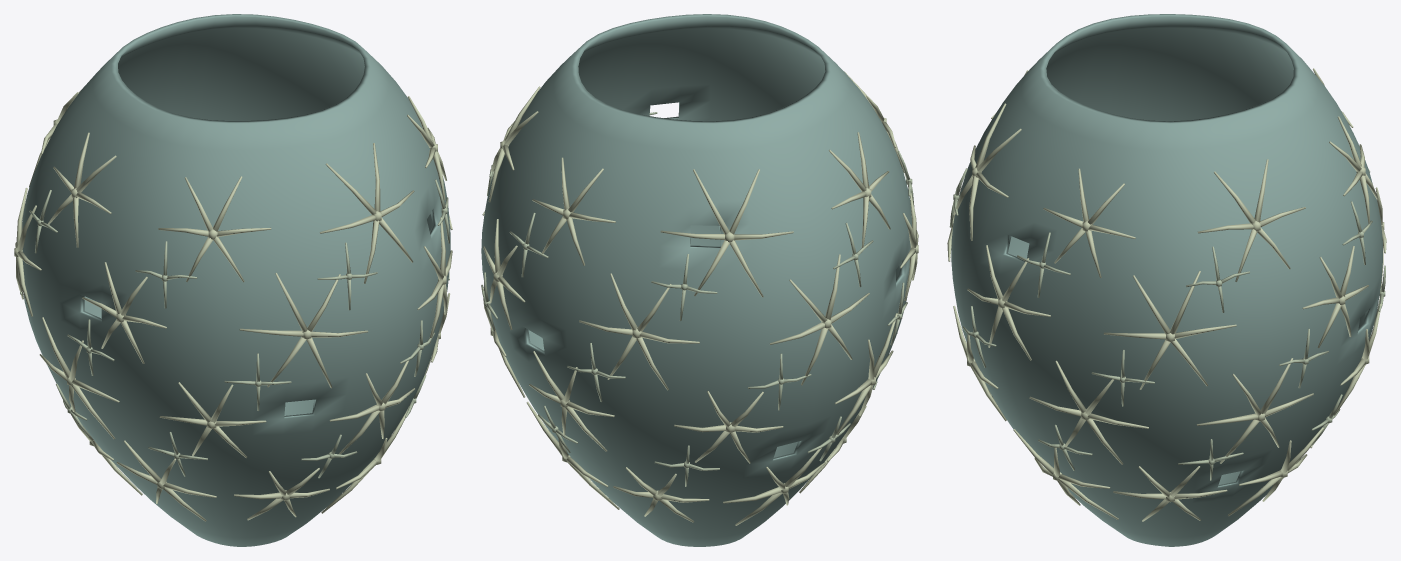
The model's file is eiffelia.glb.
3 renders of one model, left to right at view 1: azimuth 30°, elevation 25°; view 2: azimuth 150°, elevation 25°; view 3: azimuth 270°, elevation 25°, orthographic.
Visible parts, largest first — view 1: rounded-thin-sac-wall-with-small-ostia, hierarchical-interlocking-star-spicule-framework; view 2: rounded-thin-sac-wall-with-small-ostia, hierarchical-interlocking-star-spicule-framework; view 3: rounded-thin-sac-wall-with-small-ostia, hierarchical-interlocking-star-spicule-framework.
Boxes of the visible parts, x1=… form: rounded-thin-sac-wall-with-small-ostia: x1=22, y1=14, x2=450, y2=546; hierarchical-interlocking-star-spicule-framework: x1=14, y1=87, x2=452, y2=521; rounded-thin-sac-wall-with-small-ostia: x1=481, y1=14, x2=911, y2=546; hierarchical-interlocking-star-spicule-framework: x1=481, y1=71, x2=918, y2=525; rounded-thin-sac-wall-with-small-ostia: x1=951, y1=14, x2=1382, y2=546; hierarchical-interlocking-star-spicule-framework: x1=947, y1=68, x2=1386, y2=521.
Size of the model in its own units: 0.1098 by 0.13 by 0.1089.
